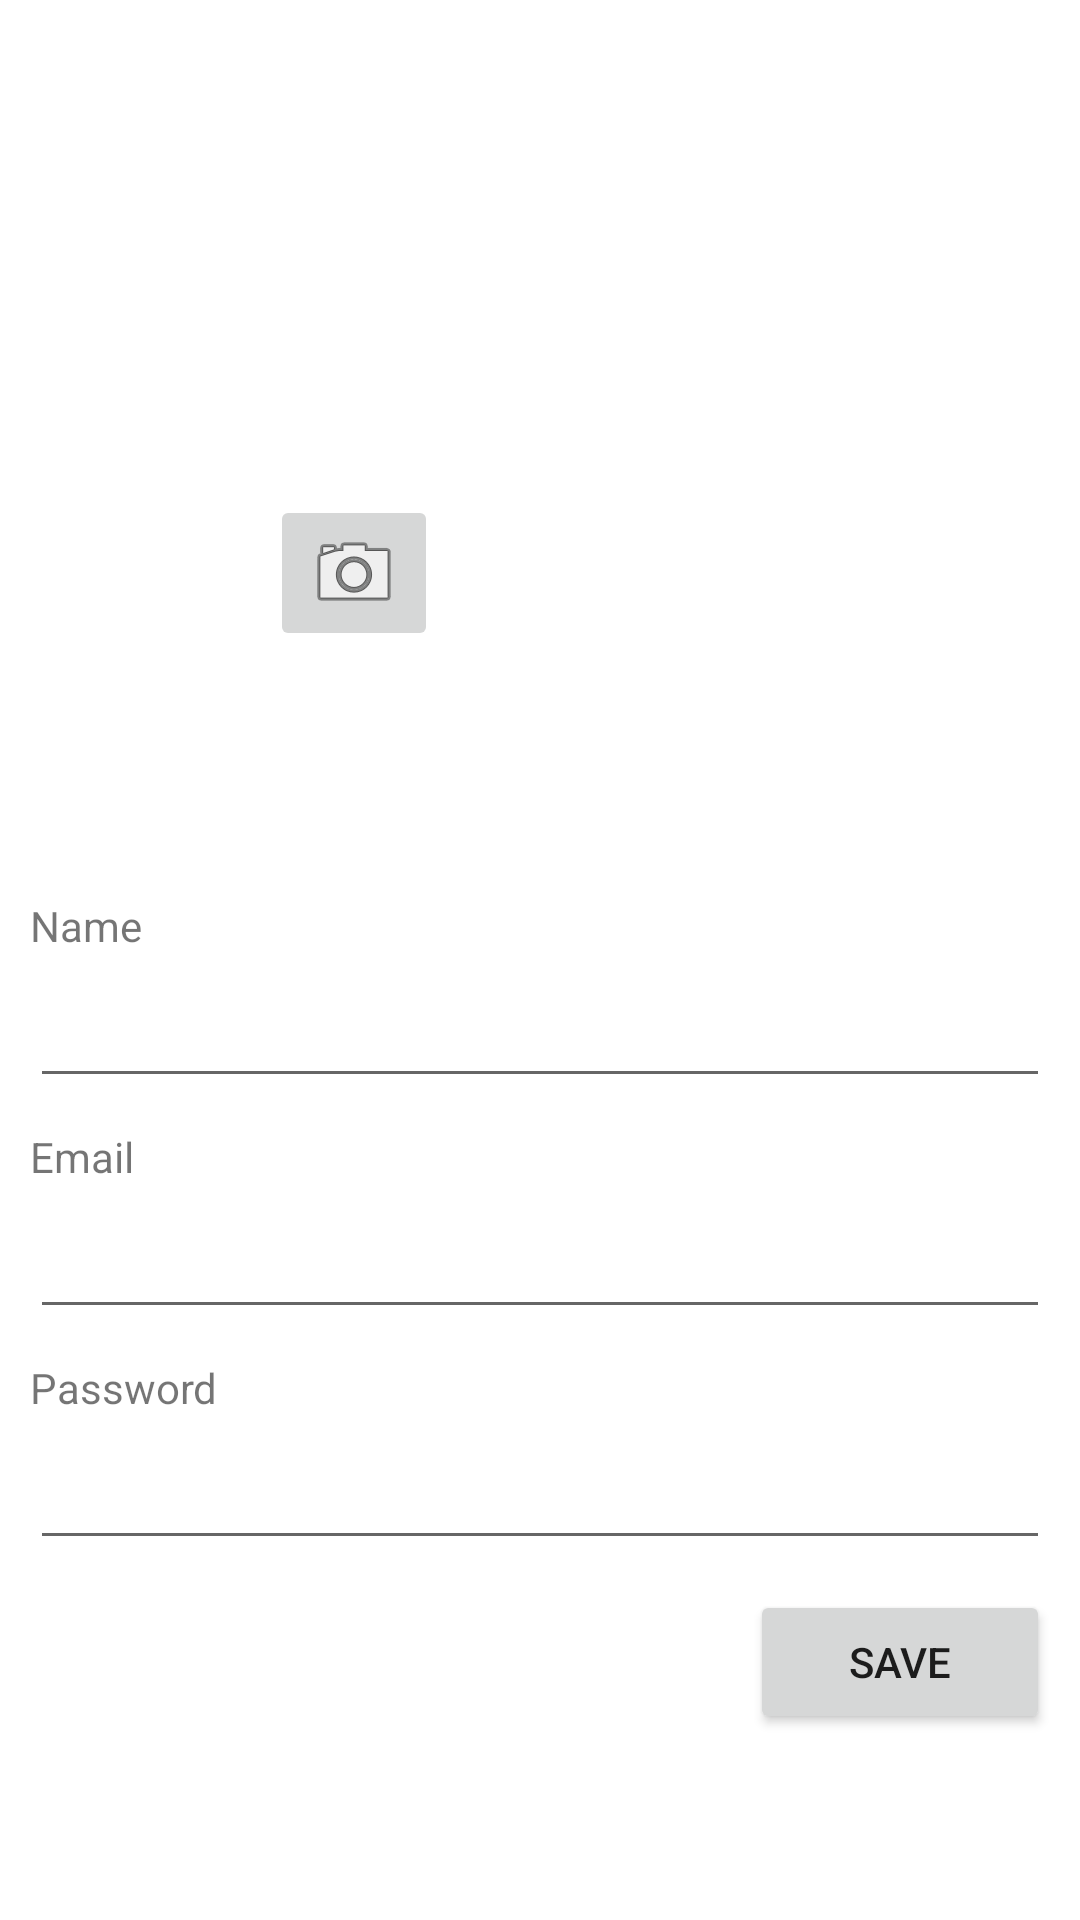

Named icons in this screenshot (1080px x 1920px) and their bounding boxes, (x1, y1, x2, y2):
camera: (282, 513, 426, 633)
